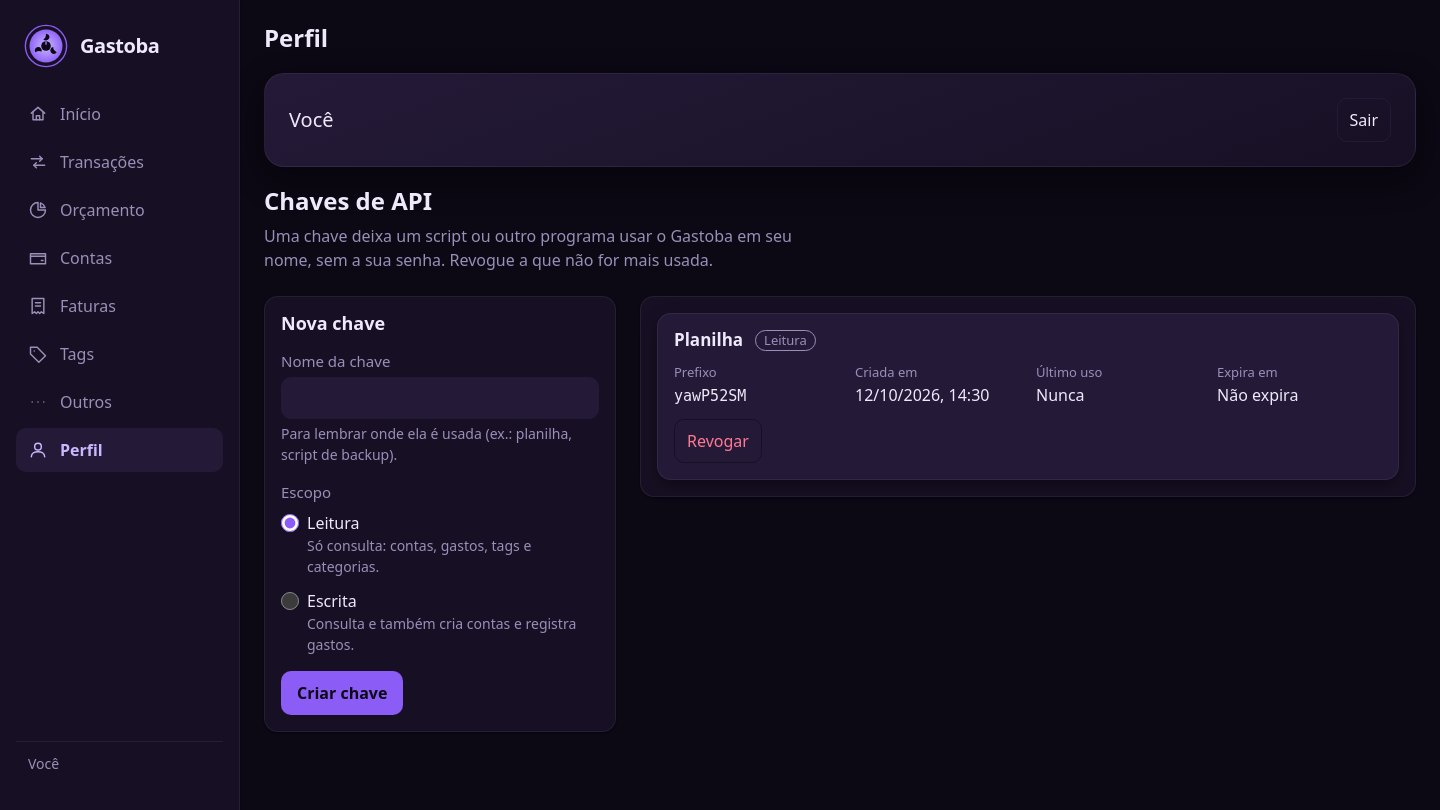
Scenario: Perfil › revogar pede confirmação; Cancelar mantém a chave
Click the button with aria-label "Revogar a chave Planilha" at (718, 441), box x1=674 y1=419 x2=762 y2=463
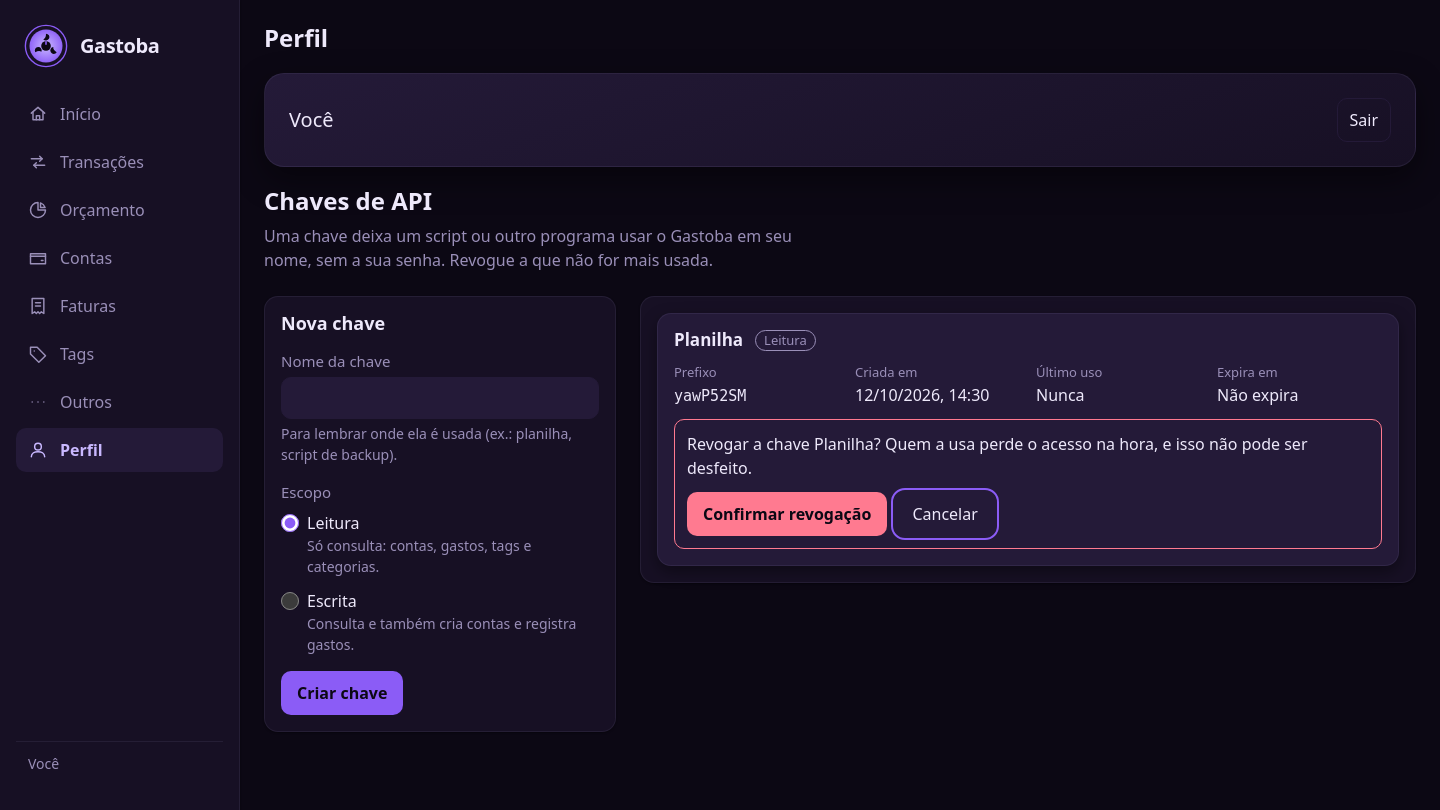
Expected: the list item shows "Revogar a chave Planilha?", x1=657 y1=313 x2=1399 y2=566
Click the button "Cancelar" at (945, 514), box x1=895 y1=492 x2=995 y2=536
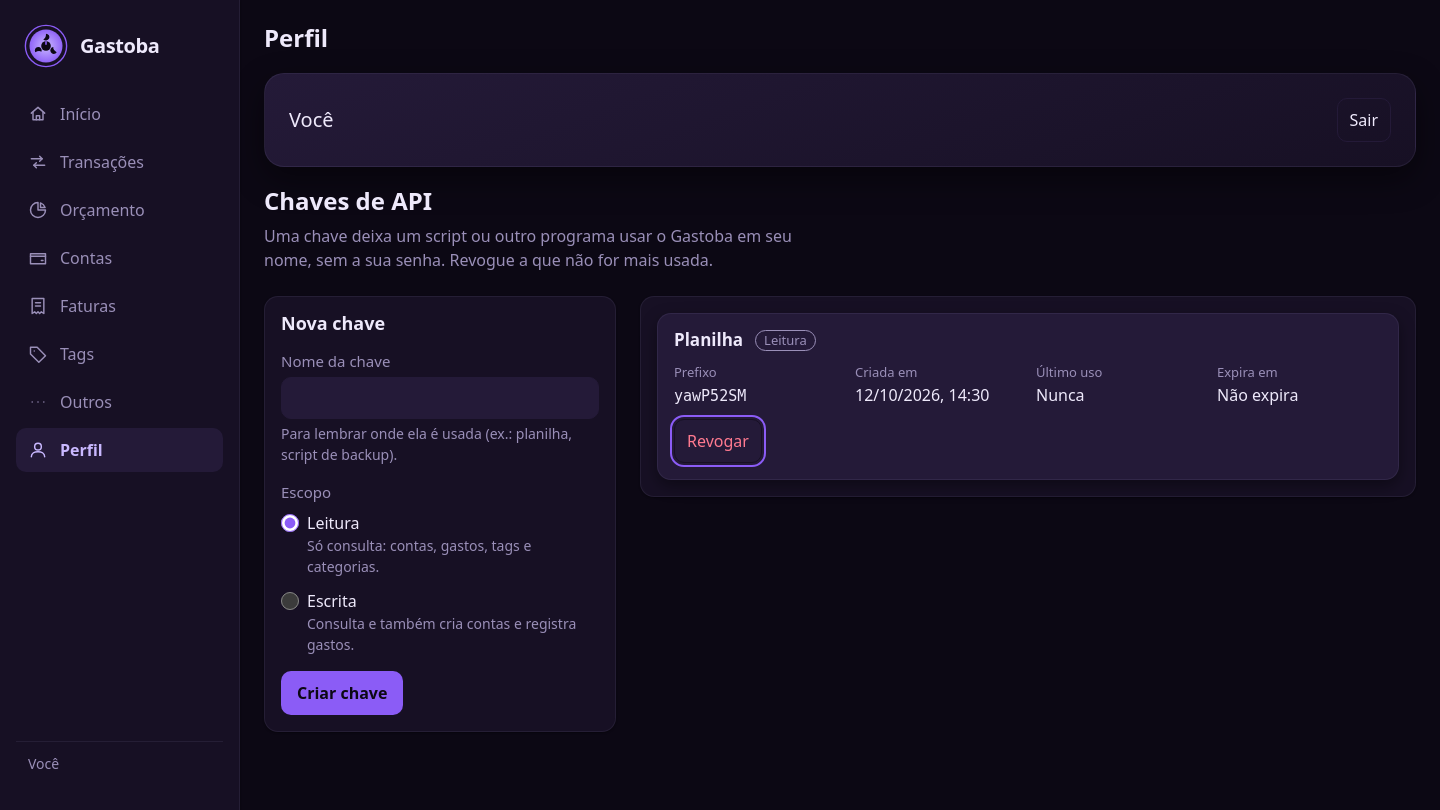
Expected: the button "Confirmar revogação" is gone
